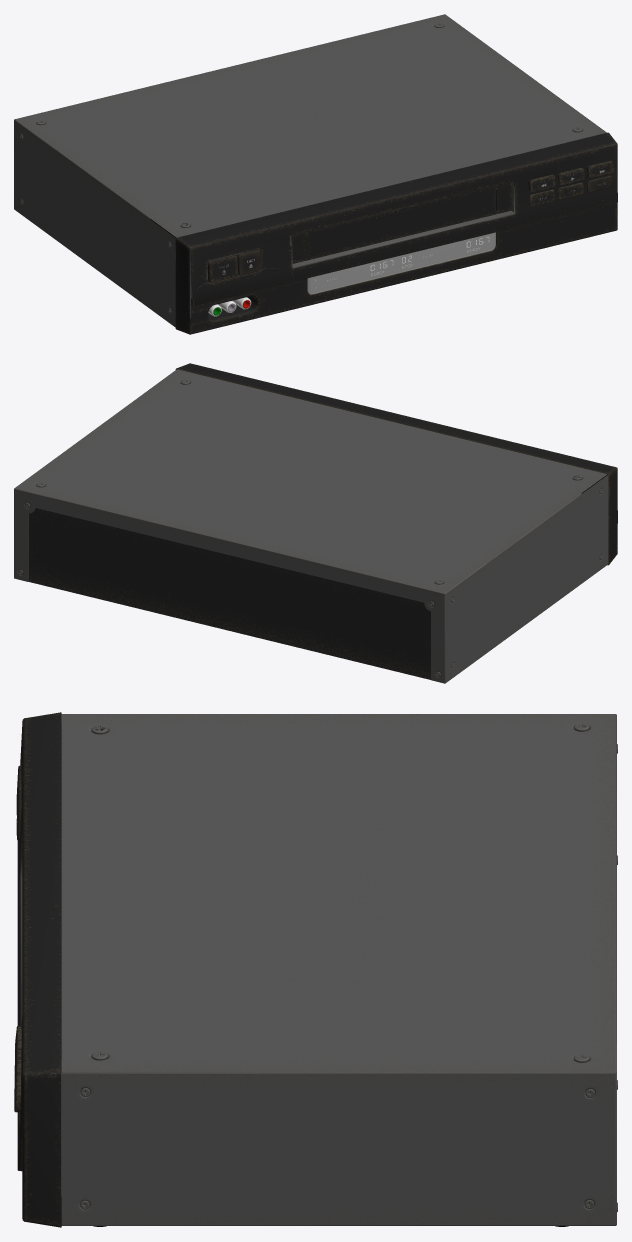
File: vhs_player.glb
3 views of the same model, one above another, from view 1: azimuth 30°, elevation 25°; view 2: azimuth 150°, elevation 25°; view 3: azimuth 270°, elevation 25° (orthographic). The views are drawn at different scales.
Visible parts, largest first — view 1: Body_Baked, CassetteCover_Baked, LED_Cover_Baked, Button_Power_Baked, Button_Power.007_Baked; view 2: Body_Baked; view 3: Body_Baked.
Part boxes in pixels (box(x1,y1,x2,y2)): Body_Baked: box(14, 14, 617, 334); CassetteCover_Baked: box(292, 182, 511, 263); LED_Cover_Baked: box(307, 232, 495, 294); Button_Power_Baked: box(207, 255, 237, 282); Button_Power.007_Baked: box(237, 249, 260, 275); Body_Baked: box(14, 363, 617, 683); Body_Baked: box(17, 712, 617, 1227).
Bounding box in the file's own units: 0.3719 × 0.0814 × 0.2632.
28 materials, 28 textured.
